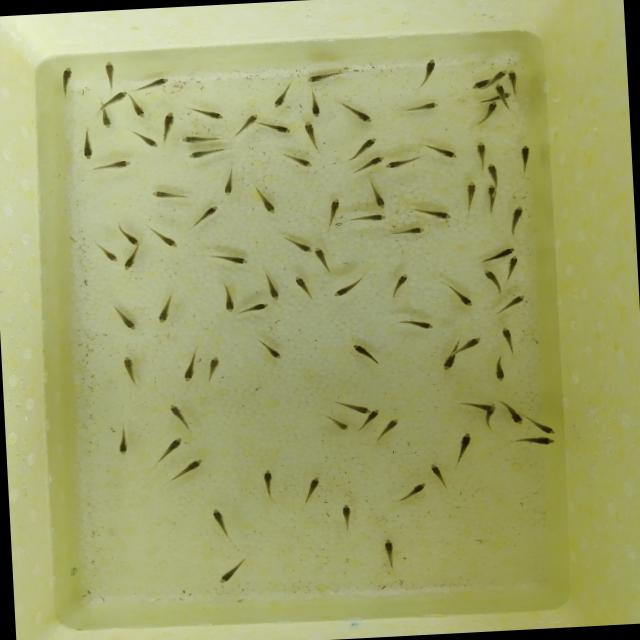fingerling: (152, 437, 184, 469), (164, 460, 200, 485), (215, 558, 249, 584), (410, 204, 453, 223), (255, 186, 279, 220), (467, 103, 498, 129), (209, 508, 232, 542), (378, 539, 398, 578), (413, 63, 438, 94), (393, 482, 428, 504), (339, 102, 372, 125), (419, 142, 456, 162), (490, 296, 526, 316), (170, 406, 193, 437), (523, 414, 555, 436), (120, 356, 140, 391), (112, 422, 132, 456), (155, 291, 176, 323), (370, 418, 398, 442), (112, 302, 135, 331), (348, 138, 378, 160), (452, 432, 473, 462), (499, 401, 524, 426), (191, 204, 217, 228), (497, 262, 521, 288), (293, 276, 315, 304), (280, 234, 308, 256), (212, 250, 246, 268), (484, 243, 516, 262), (98, 90, 128, 110), (94, 243, 119, 267), (150, 225, 176, 248), (233, 114, 259, 137), (300, 473, 322, 500), (478, 405, 499, 433), (304, 126, 324, 155), (260, 338, 284, 362), (448, 286, 472, 310), (115, 222, 138, 247), (481, 271, 504, 296), (428, 463, 450, 489), (386, 274, 408, 300), (120, 246, 141, 273), (441, 348, 464, 372), (272, 82, 292, 109), (282, 150, 309, 170), (483, 69, 511, 88), (334, 280, 363, 298), (182, 353, 200, 382), (262, 268, 278, 300), (338, 403, 372, 418), (354, 157, 382, 175), (348, 342, 373, 362), (203, 357, 220, 386), (484, 88, 511, 106), (402, 102, 439, 115), (190, 139, 227, 152), (134, 130, 158, 150), (324, 198, 340, 227), (95, 107, 114, 131), (317, 250, 333, 278), (81, 128, 94, 162), (338, 504, 355, 530), (351, 212, 387, 224), (456, 338, 482, 354), (500, 329, 516, 355), (328, 416, 351, 434), (403, 320, 432, 334), (264, 123, 293, 137), (462, 185, 476, 214), (518, 148, 533, 175), (218, 173, 233, 200), (490, 356, 506, 381), (368, 188, 386, 210), (220, 280, 232, 312), (188, 107, 220, 119), (310, 93, 323, 122), (244, 302, 274, 314), (98, 160, 128, 172), (132, 100, 148, 122), (154, 190, 182, 202), (474, 146, 486, 174), (386, 160, 418, 170), (484, 188, 496, 214), (484, 166, 496, 189), (188, 152, 218, 160), (78, 277, 90, 287)
